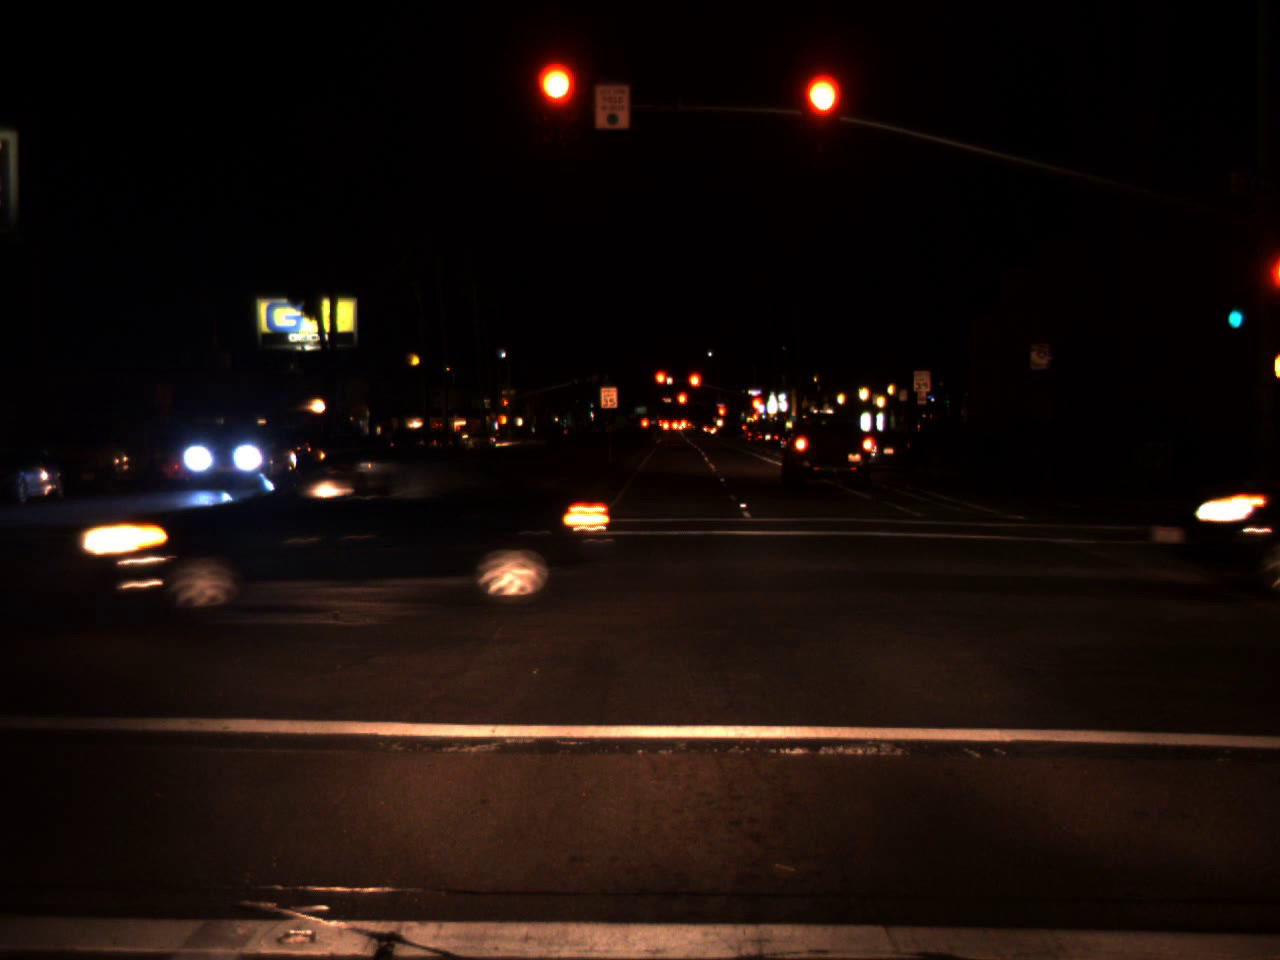stop: (537, 66, 577, 144), (802, 74, 841, 152), (687, 371, 702, 403), (653, 369, 668, 398), (675, 390, 688, 419), (717, 403, 726, 430), (751, 397, 761, 421), (503, 398, 509, 414)
